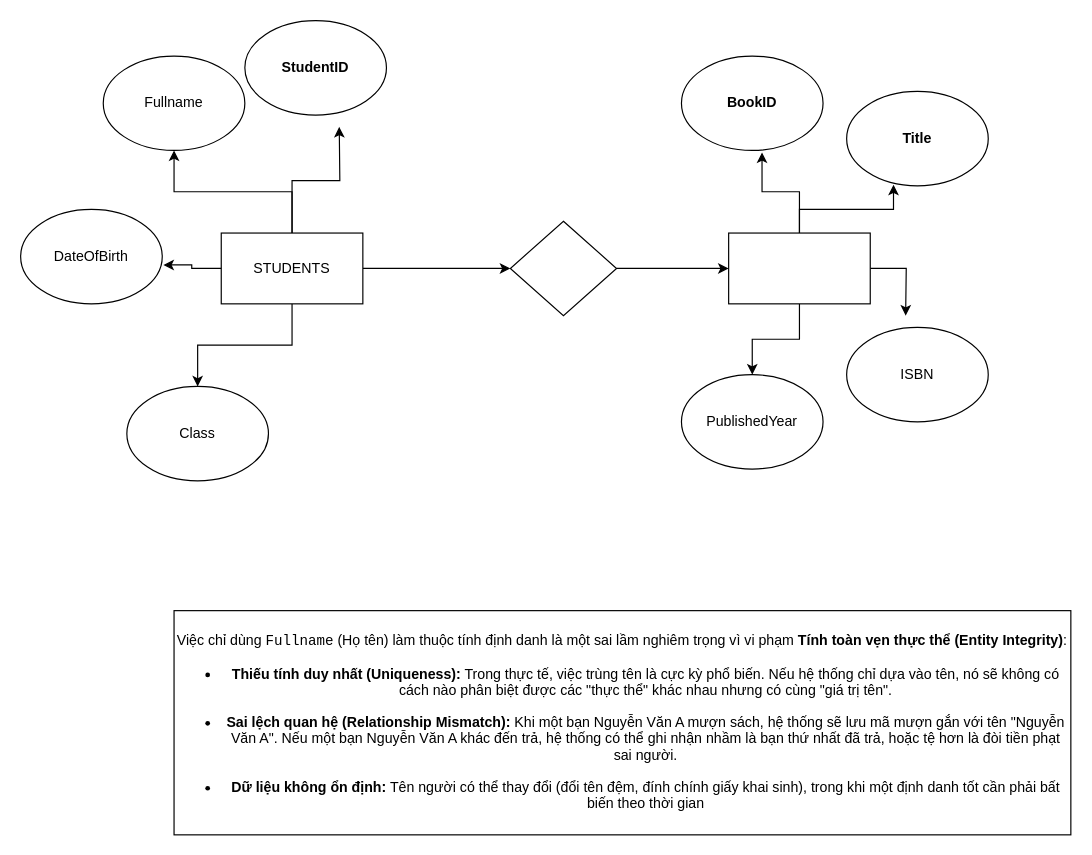
The diagram is 1092 pixels wide and 855 high, and some of its shapes have lost their labels. Here are the shapes that lost their labels. From the top down, the box of each, then its label:
(509, 220, 617, 316): LOANS
(727, 232, 870, 304): BOOKS
